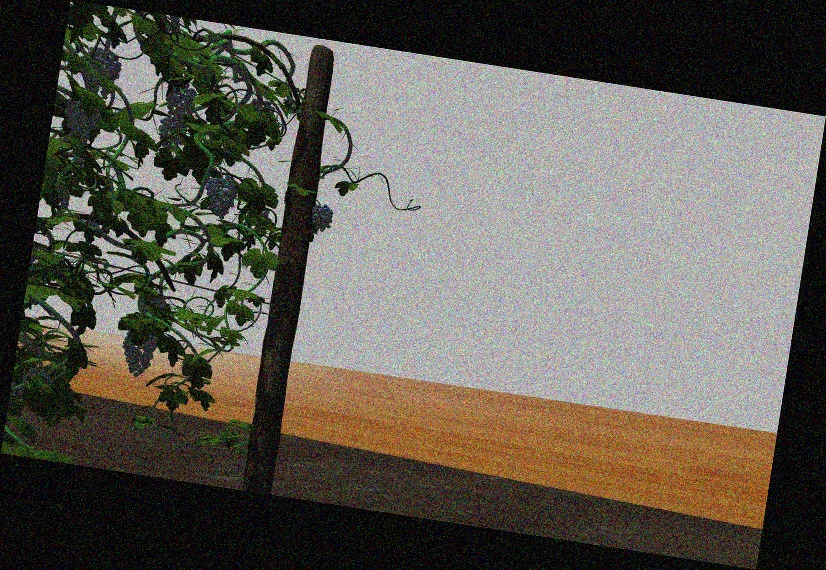grape: (63, 94, 102, 146), (80, 50, 121, 96), (120, 326, 156, 378), (204, 171, 237, 219), (156, 117, 189, 150), (165, 86, 196, 119), (310, 202, 335, 229)
